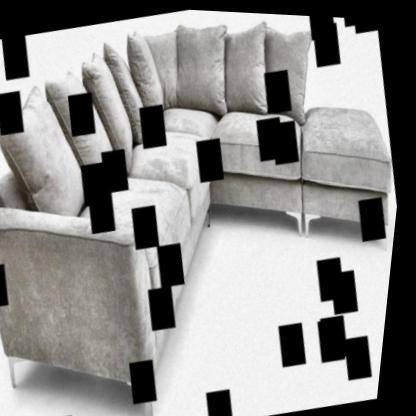Sofa: (0, 1, 407, 300)
